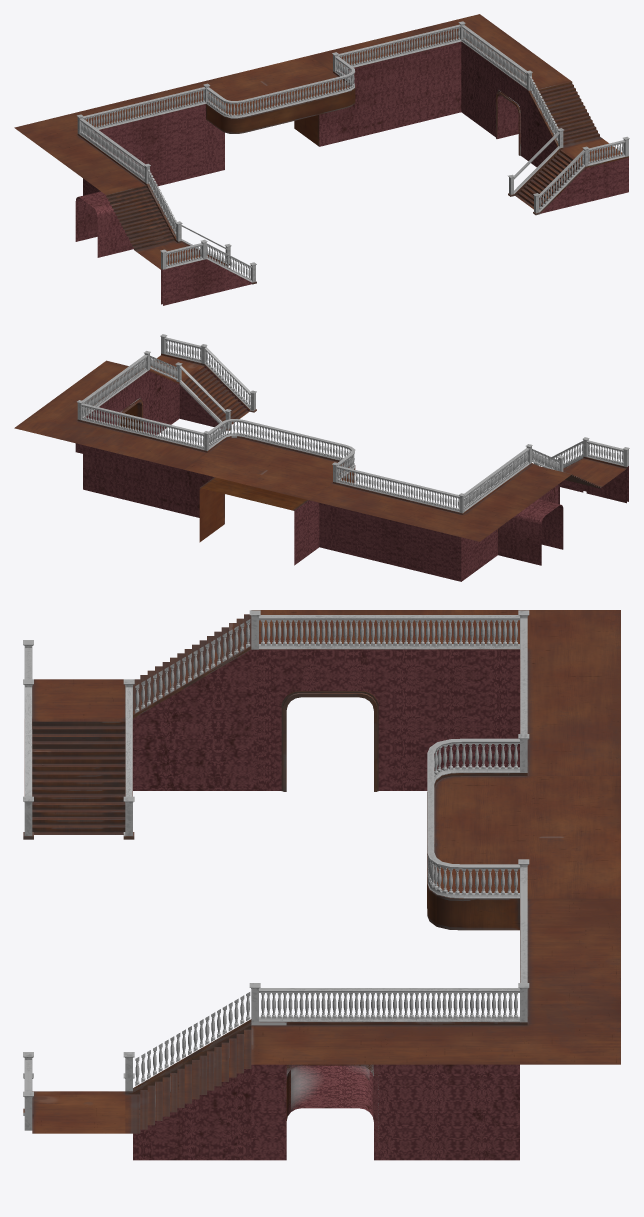
File: Stair.fbx
3 renders of one model, top to bottom at view 1: azimuth 30°, elevation 25°; view 2: azimuth 150°, elevation 25°; view 3: azimuth 270°, elevation 25°, orthographic. The views are drawn at different scales.
Visible parts, largest first — view 1: Stairs, GuardRail_12.002, GuardRail_12.001, GuardRail_12.003, GuardRail_Poles, GuardRailBase.002, GuardRailBase.0012, GuardRail_12.007, GuardRail_12.004, GuardRailBase.003, GuardRail_12.006, GuardRailBase.007 (+2 smaller); view 2: Stairs, GuardRail_12.002, GuardRail_12.001, GuardRail_12.003, GuardRailBase.002, GuardRail_Poles, GuardRailBase.0012, GuardRailBase.003, GuardRail_12.006, GuardRail_12.007, GuardRail_12.004, GuardRailBase.007 (+2 smaller); view 3: Stairs, GuardRail_12.003, GuardRailBase.003, GuardRail_12.004, GuardRail_Poles, GuardRail_12.001, GuardRailBase.0012, GuardRailBase.002, GuardRailBase.005.
Part boxes in pixels (x1,y1,x2,y2): Stairs: (14, 14, 628, 305); GuardRail_12.002: (84, 27, 460, 129); GuardRail_12.001: (207, 59, 354, 116); GuardRail_12.003: (81, 28, 526, 179); GuardRail_Poles: (77, 21, 629, 282); GuardRailBase.002: (83, 24, 461, 130); GuardRailBase.0012: (206, 56, 355, 117); GuardRail_12.007: (206, 153, 584, 280); GuardRail_12.004: (147, 76, 558, 236); GuardRailBase.003: (79, 25, 526, 181); GuardRail_12.006: (166, 143, 624, 266); GuardRailBase.007: (206, 150, 585, 282); Stairs: (14, 353, 628, 581); GuardRail_12.002: (82, 406, 459, 510); GuardRail_12.001: (209, 421, 354, 477); GuardRail_12.003: (83, 357, 528, 509); GuardRailBase.002: (81, 403, 459, 512); GuardRail_Poles: (77, 334, 629, 513); GuardRailBase.0012: (209, 419, 355, 479); GuardRailBase.003: (82, 355, 529, 511); GuardRail_12.006: (165, 340, 623, 464); GuardRail_12.007: (205, 350, 583, 469); GuardRail_12.004: (150, 355, 559, 470); GuardRailBase.007: (205, 347, 583, 469); Stairs: (23, 610, 620, 1160); GuardRail_12.003: (261, 620, 517, 1018); GuardRailBase.003: (259, 615, 519, 1021); GuardRail_12.004: (135, 619, 250, 1085); GuardRail_Poles: (23, 610, 529, 1130); GuardRail_12.001: (428, 744, 517, 894); GuardRailBase.0012: (427, 738, 519, 898); GuardRailBase.002: (520, 618, 527, 982); GuardRailBase.005: (125, 687, 132, 796).
Size of the model in its own units: 28.29 by 15.67 by 5.11.
Materials: 14 (14 with a texture image).
